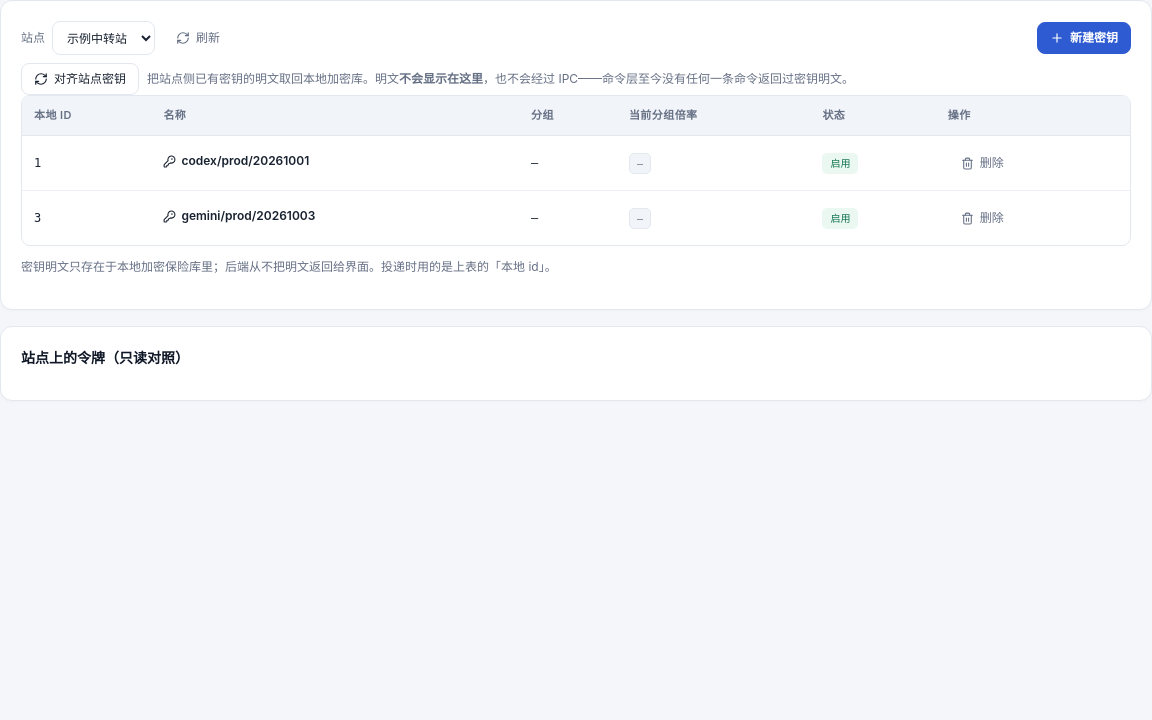
it: 资产 · 删除密钥（M47-S1） › ② 二次确认用删除口径，且勾选「我确认删除」之前点不动
Expected: the text "codex/prod/20261001" is shown, [163,152,309,171]
What coordinates should you click on to do the following:
click the button "删除" in the row of "codex/prod/20261001"
I would click on:
 (982, 163)
Its box is [948,147,1017,179].
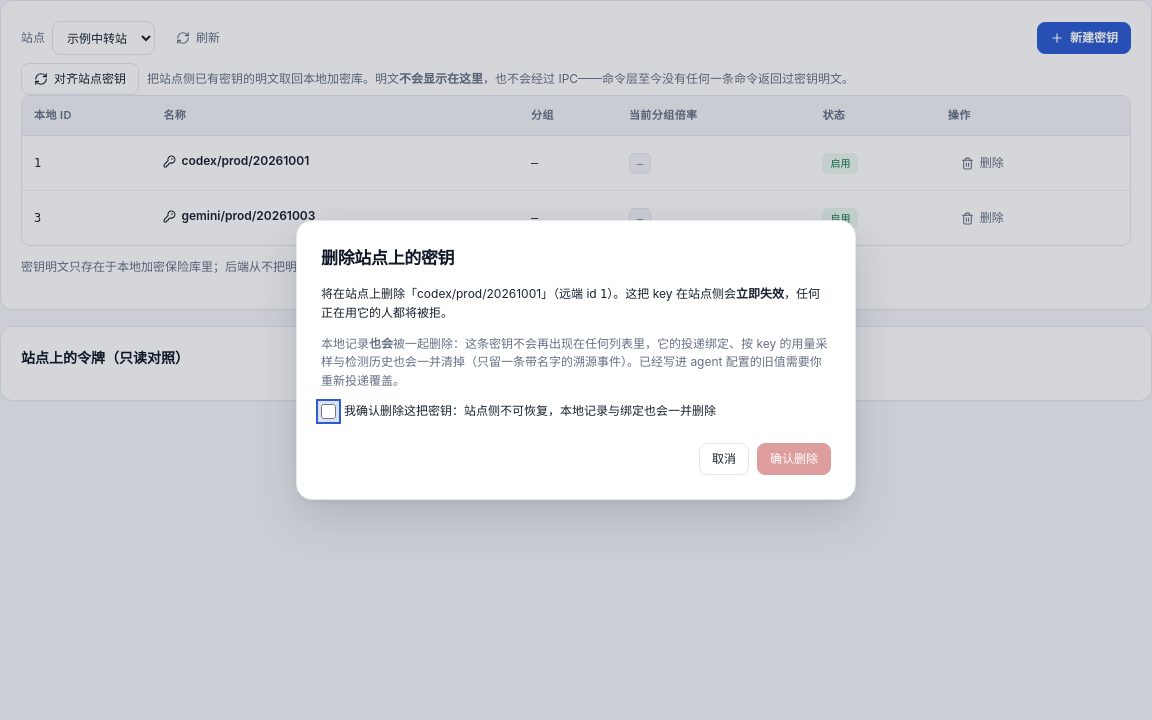
Expected: the dialog shows "删除站点上的密钥", [321,248,454,268]
Expected: the dialog shows "被一起删除", [321,336,828,388]
Expected: the button "确认删除" is disabled, [757,443,831,475]
What coordinates should you click on to do the following:
click the checkbox
I would click on:
 (328, 412)
Its box is [321,404,336,419].
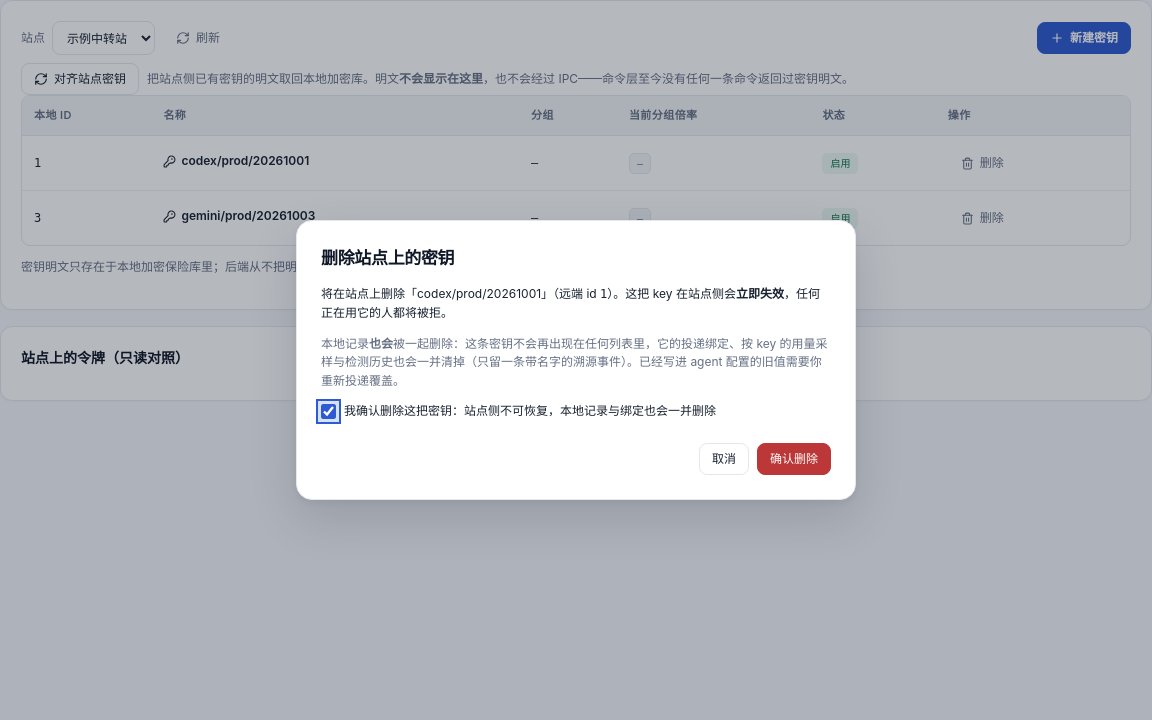
Expected: the button "确认删除" is enabled, [757,443,831,475]
